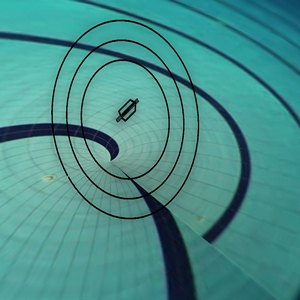circle: (45, 13, 211, 228)
submarine: (107, 95, 149, 132)
